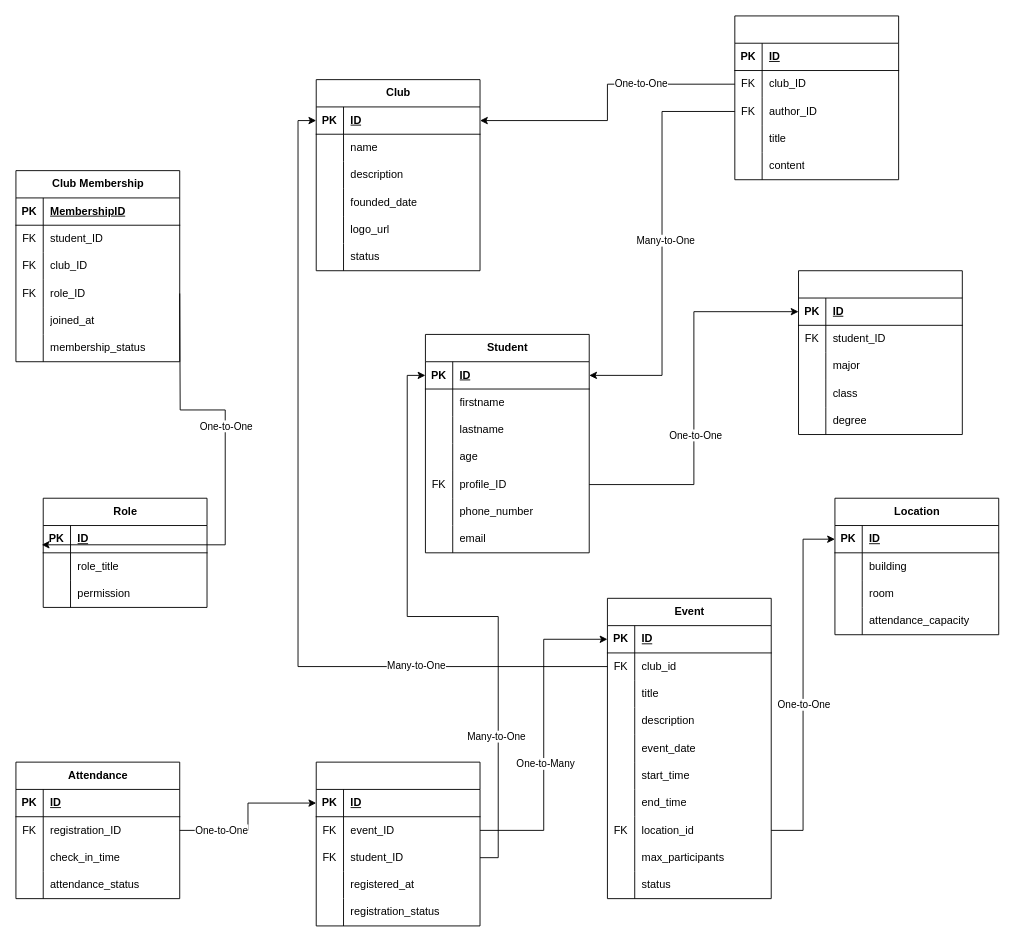
The diagram is 1015 pixels wide and 942 high, and some of its shapes have lost their labels. The shapes that lost their labels are listed below. From the top down, each one's box as (x1, y1, x2, y2) in pixels, then its label:
(734, 15, 899, 180): Annoucement
(798, 270, 962, 435): Profile
(315, 761, 480, 926): Event Registration
